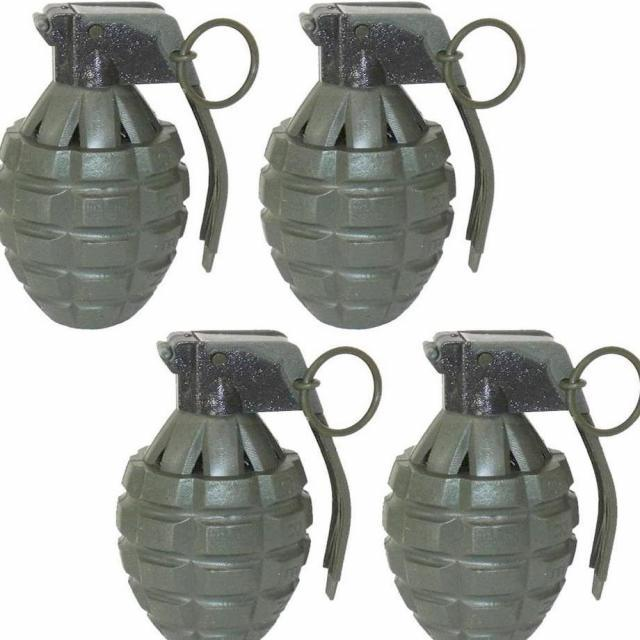Grenade: (259, 0, 528, 330), (0, 1, 261, 331), (114, 328, 383, 640), (382, 330, 640, 640)
